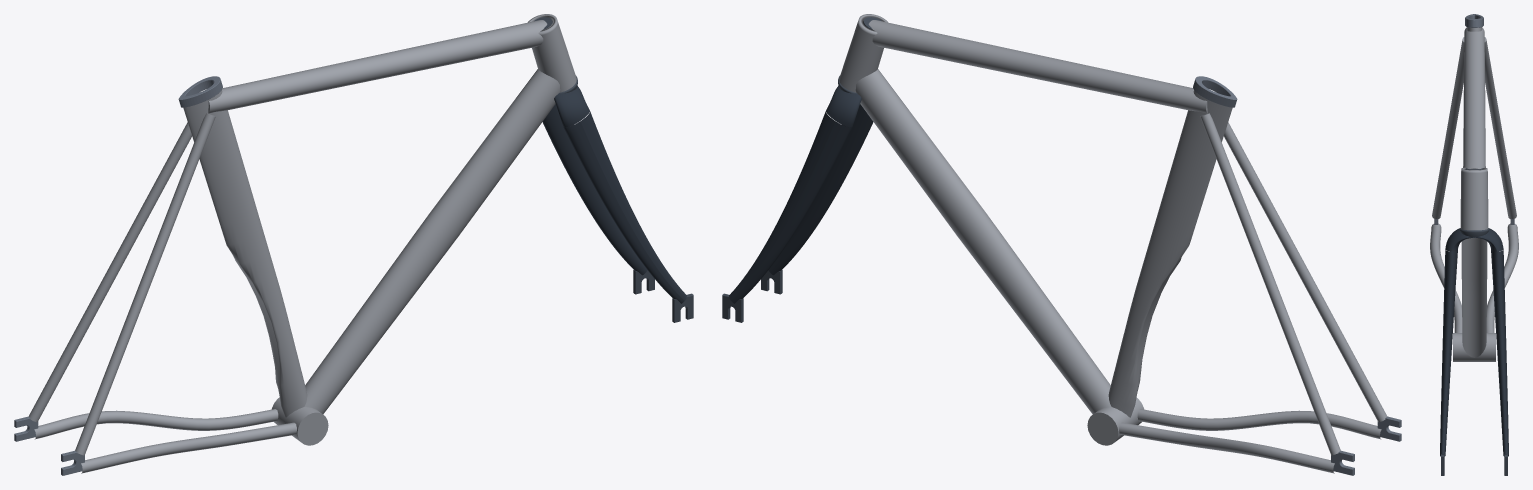
File: cinelli-vigorelli-rainbow-xs.glb
The picture shows the model from 3 angles, left to right: view 1: azimuth 30°, elevation 25°; view 2: azimuth 150°, elevation 25°; view 3: azimuth 270°, elevation 25°; orthographic projection. The views are drawn at different scales.
Visible parts, largest first — view 1: paint_down, paint_seat, paint_top, fork_blade_1, paint_seatstay_1, paint_seatstay_-1, paint_chainstay_-1, fork_blade_-1, paint_chainstay_1, paint_head, paint_bottom_bracket, fork_crown (+1 smaller); view 2: paint_down, paint_seat, paint_top, fork_blade_-1, paint_seatstay_-1, paint_seatstay_1, paint_chainstay_1, fork_blade_1, paint_chainstay_-1, paint_head, paint_bottom_bracket, fork_crown (+1 smaller); view 3: paint_top, paint_down, fork_blade_1, fork_blade_-1, paint_head, paint_seatstay_-1, paint_seatstay_1, paint_chainstay_-1, paint_chainstay_1, paint_bottom_bracket, fork_crown, seat_collar (+1 smaller).
Part boxes in pixels (x1,y1,x2,y2): paint_down: (304,69,560,414); paint_seat: (183,90,307,417); paint_top: (208,20,547,113); fork_blade_1: (563,111,686,303); paint_seatstay_1: (75,113,215,455); paint_seatstay_-1: (28,122,191,422); paint_chainstay_-1: (34,409,278,439); fork_blade_-1: (542,104,647,275); paint_chainstay_1: (81,422,296,473); paint_head: (528,14,576,92); paint_bottom_bracket: (271,397,328,445); fork_crown: (554,86,589,127); paint_down: (855,69,1111,414); paint_seat: (1108,90,1232,417); paint_top: (868,20,1207,113); fork_blade_-1: (729,111,852,303); paint_seatstay_-1: (1200,113,1340,455); paint_seatstay_1: (1224,122,1387,422); paint_chainstay_1: (1137,409,1381,439); fork_blade_1: (768,104,873,275); paint_chainstay_-1: (1119,422,1334,473); paint_head: (839,14,887,92); paint_bottom_bracket: (1087,397,1144,445); fork_crown: (826,86,861,127); paint_top: (1463,28,1485,169); paint_down: (1461,238,1487,357); fork_blade_1: (1440,250,1457,456); fork_blade_-1: (1491,250,1508,456); paint_head: (1460,167,1488,230); paint_seatstay_-1: (1484,37,1516,218); paint_seatstay_1: (1432,37,1464,218); paint_chainstay_-1: (1486,223,1518,332); paint_chainstay_1: (1430,223,1462,332); paint_bottom_bracket: (1453,333,1495,361); fork_crown: (1445,228,1503,251); seat_collar: (1465,14,1483,27).
Size of the model in its own units: 0.943 by 0.5366 by 0.14.
